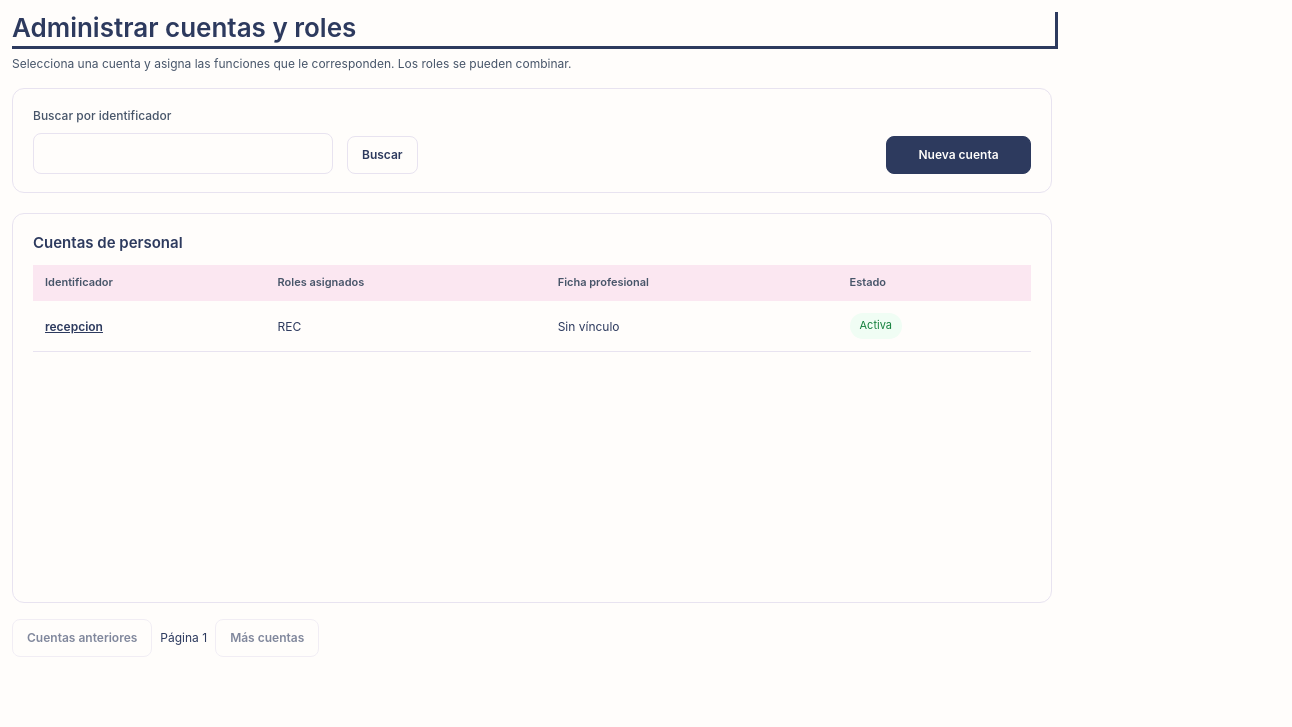
Test case: Gestión de cuentas › muestra la auditoría de cuenta y no ofrece gestión a quien no tiene permisos
The image size is (1292, 727).
Click the button with aria-label "recepcion · Activa".
click(74, 326)  # box [45,311,103,341]
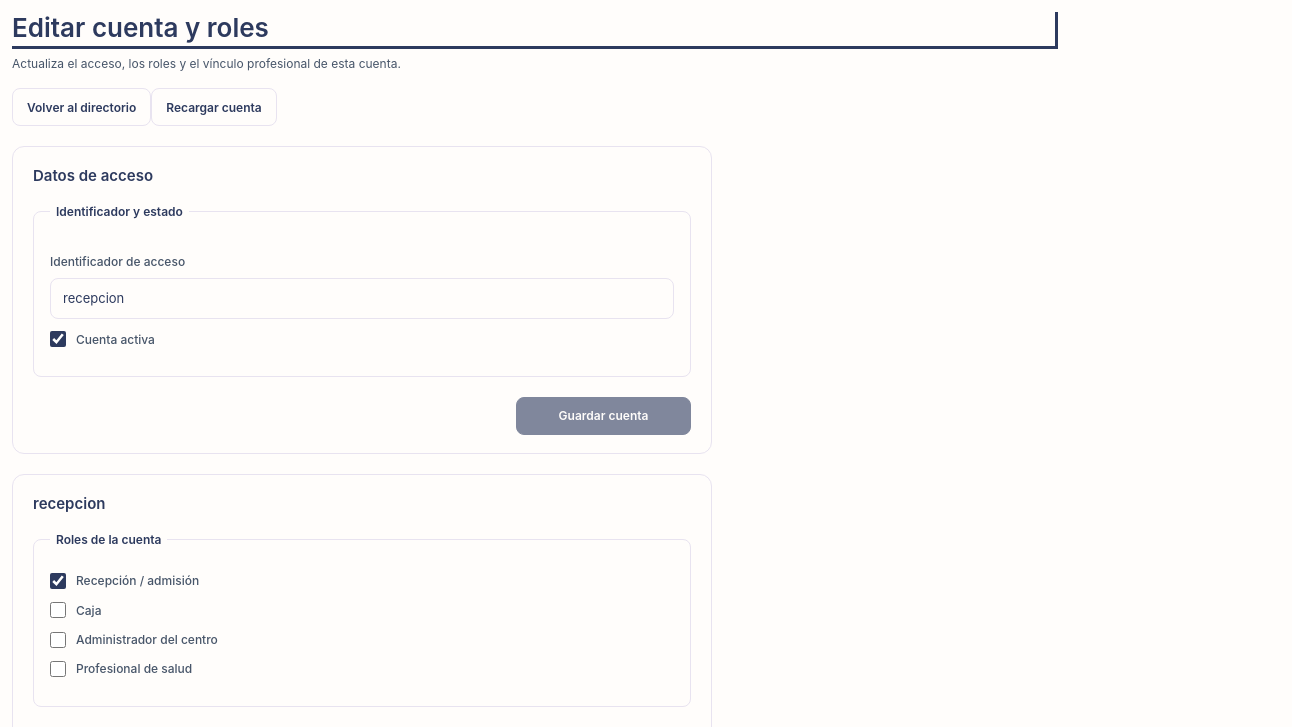
Expected: the button "Guardar cuenta" is disabled, [516,397,691,435]
